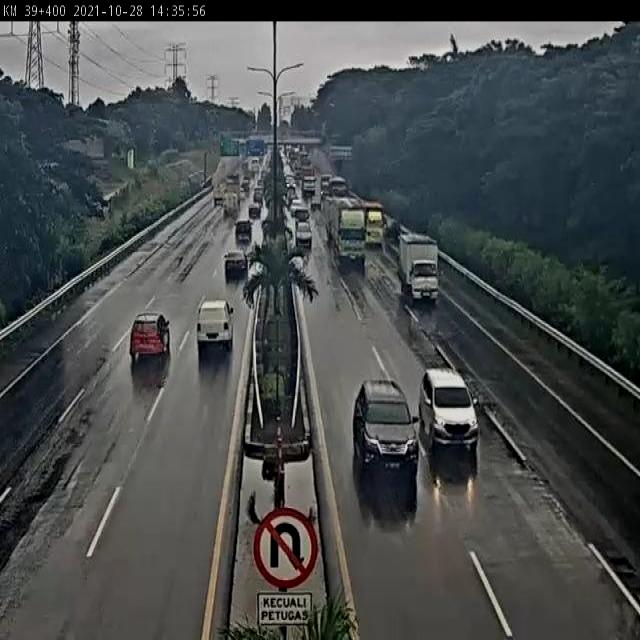Car: (353, 380, 420, 473), (420, 367, 478, 443), (128, 312, 170, 362), (224, 250, 248, 276), (234, 220, 252, 244), (296, 223, 313, 248)
Truck: (398, 232, 441, 300), (328, 198, 368, 262)
Van: (196, 299, 233, 350)
